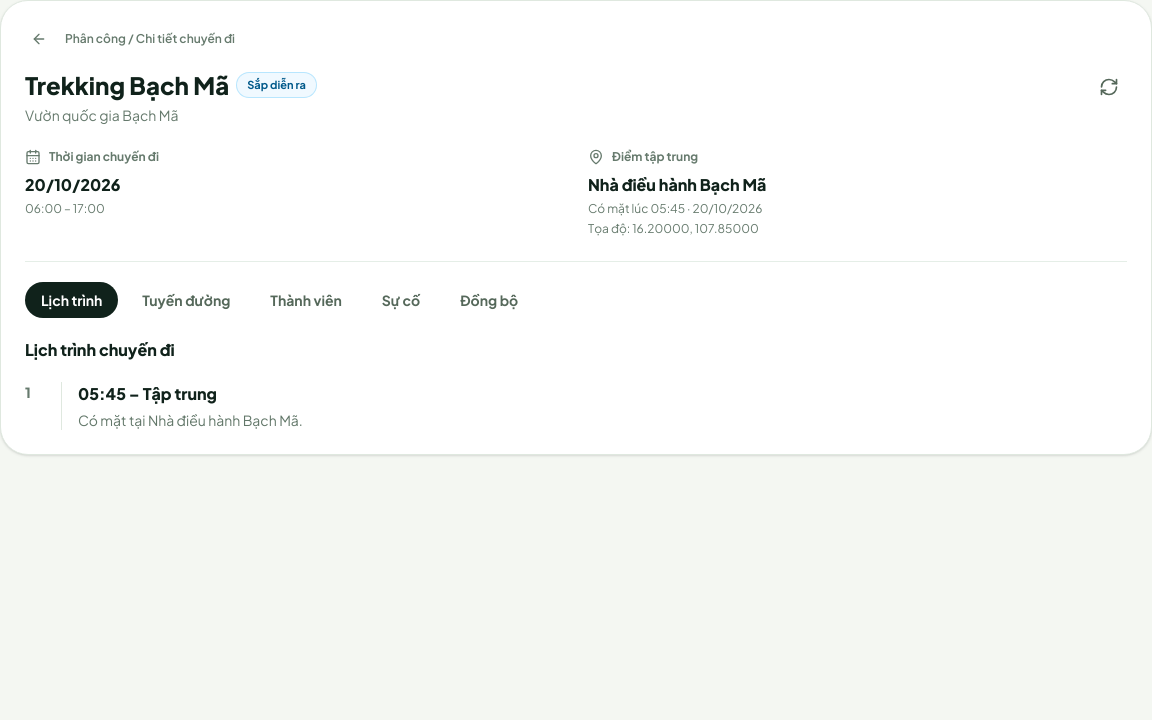
Test: PorterAssignedTripDetail › falls back to route checkpoints when the Trip has no waypoints
Click the tab "Tuyến đường".
click(186, 300)  # box [126,282,246,318]
(page scrolled)
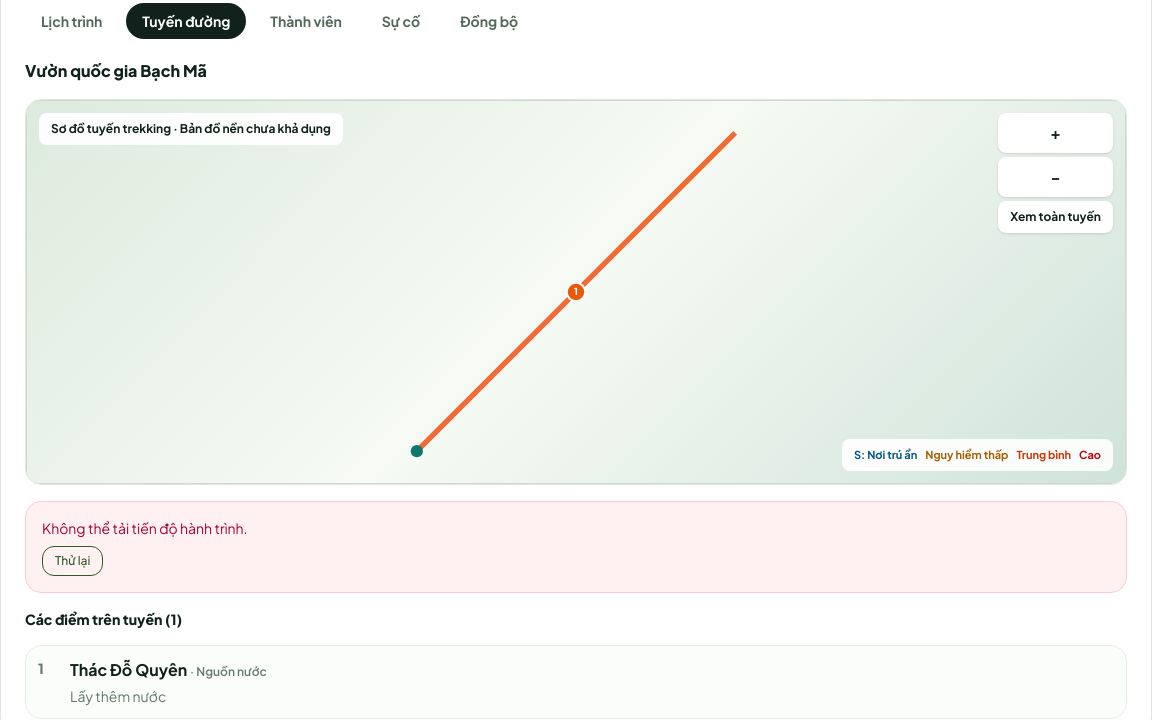
Expected: the text "Thác Đỗ Quyên" is shown, [70,659,187,680]
Expected: the text "Lấy thêm nước" is shown, [70,687,166,705]
